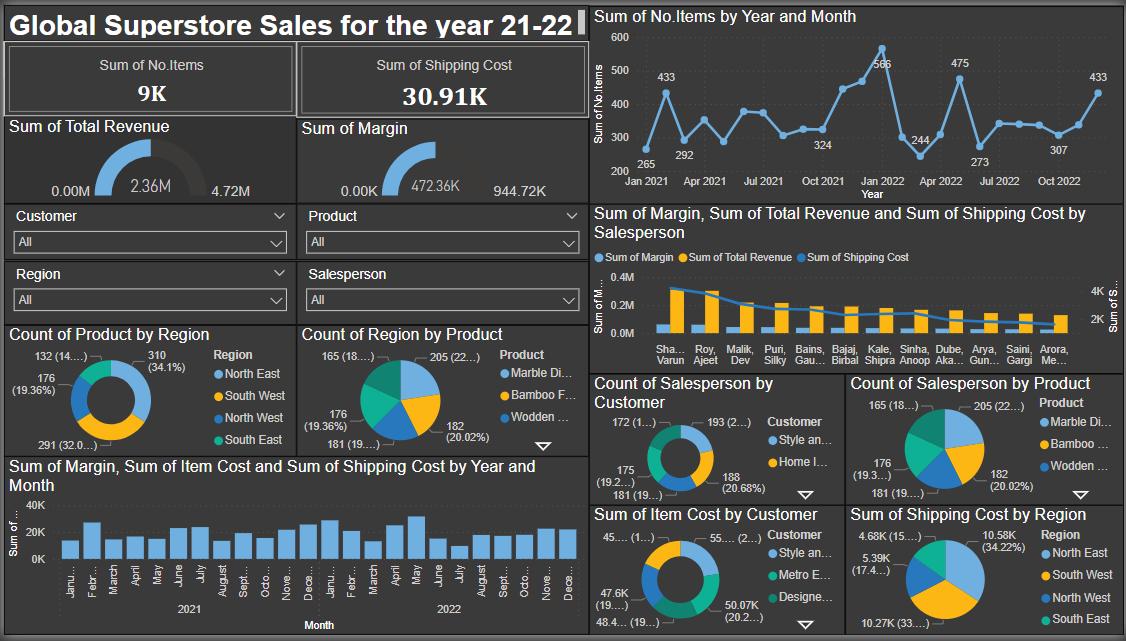

The page's visual inventory and layout, read from the dashboard file:
{"tool":"powerbi","page":{"name":"Page 1","canvas":[1280,720],"ordinal":0},"visuals":[{"type":"textbox","box":[0,0,668.6,41.4],"z":0},{"type":"donutChart","fields":{"Category":["Raw_Data.Customer"],"Y":["Raw_Data.Item Cost"]},"box":[668.6,571.4,292.9,148.6],"z":1000},{"type":"pieChart","fields":{"Category":["Raw_Data.Region"],"Y":["Raw_Data.Shipping Cost"]},"box":[961.4,571.4,318.6,148.6],"z":3000},{"type":"pieChart","fields":{"Y":["Raw_Data.Region"],"Category":["Raw_Data.Product"]},"box":[334.3,365.7,334.3,150],"z":4000},{"type":"donutChart","fields":{"Category":["Raw_Data.Region"],"Y":["Raw_Data.Product"]},"box":[0,365.7,334.3,150],"z":5000},{"type":"pieChart","fields":{"Category":["Raw_Data.Product"],"Y":["Raw_Data.Salesperson"]},"box":[961.2,421.2,318.8,150],"z":6000},{"type":"donutChart","fields":{"Category":["Raw_Data.Customer"],"Y":["Raw_Data.Salesperson"]},"box":[668.6,421.4,292.9,150],"z":7000},{"type":"slicer","fields":{"Values":["Raw_Data.Region"]},"box":[0,292.9,334.3,72.9],"z":8000},{"type":"slicer","fields":{"Values":["Raw_Data.Salesperson"]},"box":[334.3,292.9,334.3,72.9],"z":9000},{"type":"slicer","fields":{"Values":["Raw_Data.Product"]},"box":[334.3,227.1,334.3,64.3],"z":10000},{"type":"slicer","fields":{"Values":["Raw_Data.Customer"]},"box":[0,227.1,334.3,64.3],"z":11000},{"type":"lineClusteredColumnComboChart","fields":{"Category":["Raw_Data.Salesperson"],"Y":["Raw_Data.Margin","Raw_Data.Total Revenue"],"Y2":["Raw_Data.Shipping Cost"]},"box":[668.6,227.1,611.4,194.3],"z":12000},{"type":"gauge","fields":{"Y":["Raw_Data.Total Revenue"]},"box":[0,127.1,334.3,100],"z":13000},{"type":"gauge","fields":{"Y":["Raw_Data.Margin"]},"box":[334.3,130,334.3,97.1],"z":14000},{"type":"lineChart","fields":{"Y":["Raw_Data.No.Items"],"Category":["Raw_Data.Date.Variation.Date Hierarchy.Year","Raw_Data.Date.Variation.Date Hierarchy.Month"]},"box":[668.8,1.2,611.2,226.2],"z":15000},{"type":"cardVisual","fields":{"Data":["Raw_Data.No.Items"]},"box":[0,41.4,334.3,85.7],"z":16000},{"type":"cardVisual","fields":{"Data":["Raw_Data.Shipping Cost"]},"box":[334.3,41.4,334.3,87.1],"z":17000},{"type":"clusteredColumnChart","fields":{"Category":["Raw_Data.Date.Variation.Date Hierarchy.Year","Raw_Data.Date.Variation.Date Hierarchy.Month"],"Y":["Raw_Data.Margin"]},"box":[0,515.7,668.6,204.3],"z":17001}]}

Visuals, with their boxes in screenshot pixels (x1, y1, x2, y2), scaled from the page's 1280x720 canvas onto the 1126x641 screenshot:
textbox: [left=0, top=0, right=588, bottom=37]
donutChart - Raw_Data.Customer x Raw_Data.Item Cost: [left=588, top=509, right=846, bottom=640]
pieChart - Raw_Data.Region x Raw_Data.Shipping Cost: [left=846, top=509, right=1125, bottom=640]
pieChart - Raw_Data.Region x Raw_Data.Product: [left=294, top=326, right=588, bottom=459]
donutChart - Raw_Data.Region x Raw_Data.Product: [left=0, top=326, right=294, bottom=459]
pieChart - Raw_Data.Product x Raw_Data.Salesperson: [left=846, top=375, right=1125, bottom=509]
donutChart - Raw_Data.Customer x Raw_Data.Salesperson: [left=588, top=375, right=846, bottom=509]
slicer - Raw_Data.Region: [left=0, top=261, right=294, bottom=326]
slicer - Raw_Data.Salesperson: [left=294, top=261, right=588, bottom=326]
slicer - Raw_Data.Product: [left=294, top=202, right=588, bottom=259]
slicer - Raw_Data.Customer: [left=0, top=202, right=294, bottom=259]
lineClusteredColumnComboChart - Raw_Data.Salesperson x Raw_Data.Margin: [left=588, top=202, right=1125, bottom=375]
gauge - Raw_Data.Total Revenue: [left=0, top=113, right=294, bottom=202]
gauge - Raw_Data.Margin: [left=294, top=116, right=588, bottom=202]
lineChart - Raw_Data.No.Items x Raw_Data.Date.Variation.Date Hierarchy.Year: [left=588, top=1, right=1125, bottom=202]
cardVisual - Raw_Data.No.Items: [left=0, top=37, right=294, bottom=113]
cardVisual - Raw_Data.Shipping Cost: [left=294, top=37, right=588, bottom=114]
clusteredColumnChart - Raw_Data.Date.Variation.Date Hierarchy.Year x Raw_Data.Date.Variation.Date Hierarchy.Month: [left=0, top=459, right=588, bottom=640]
